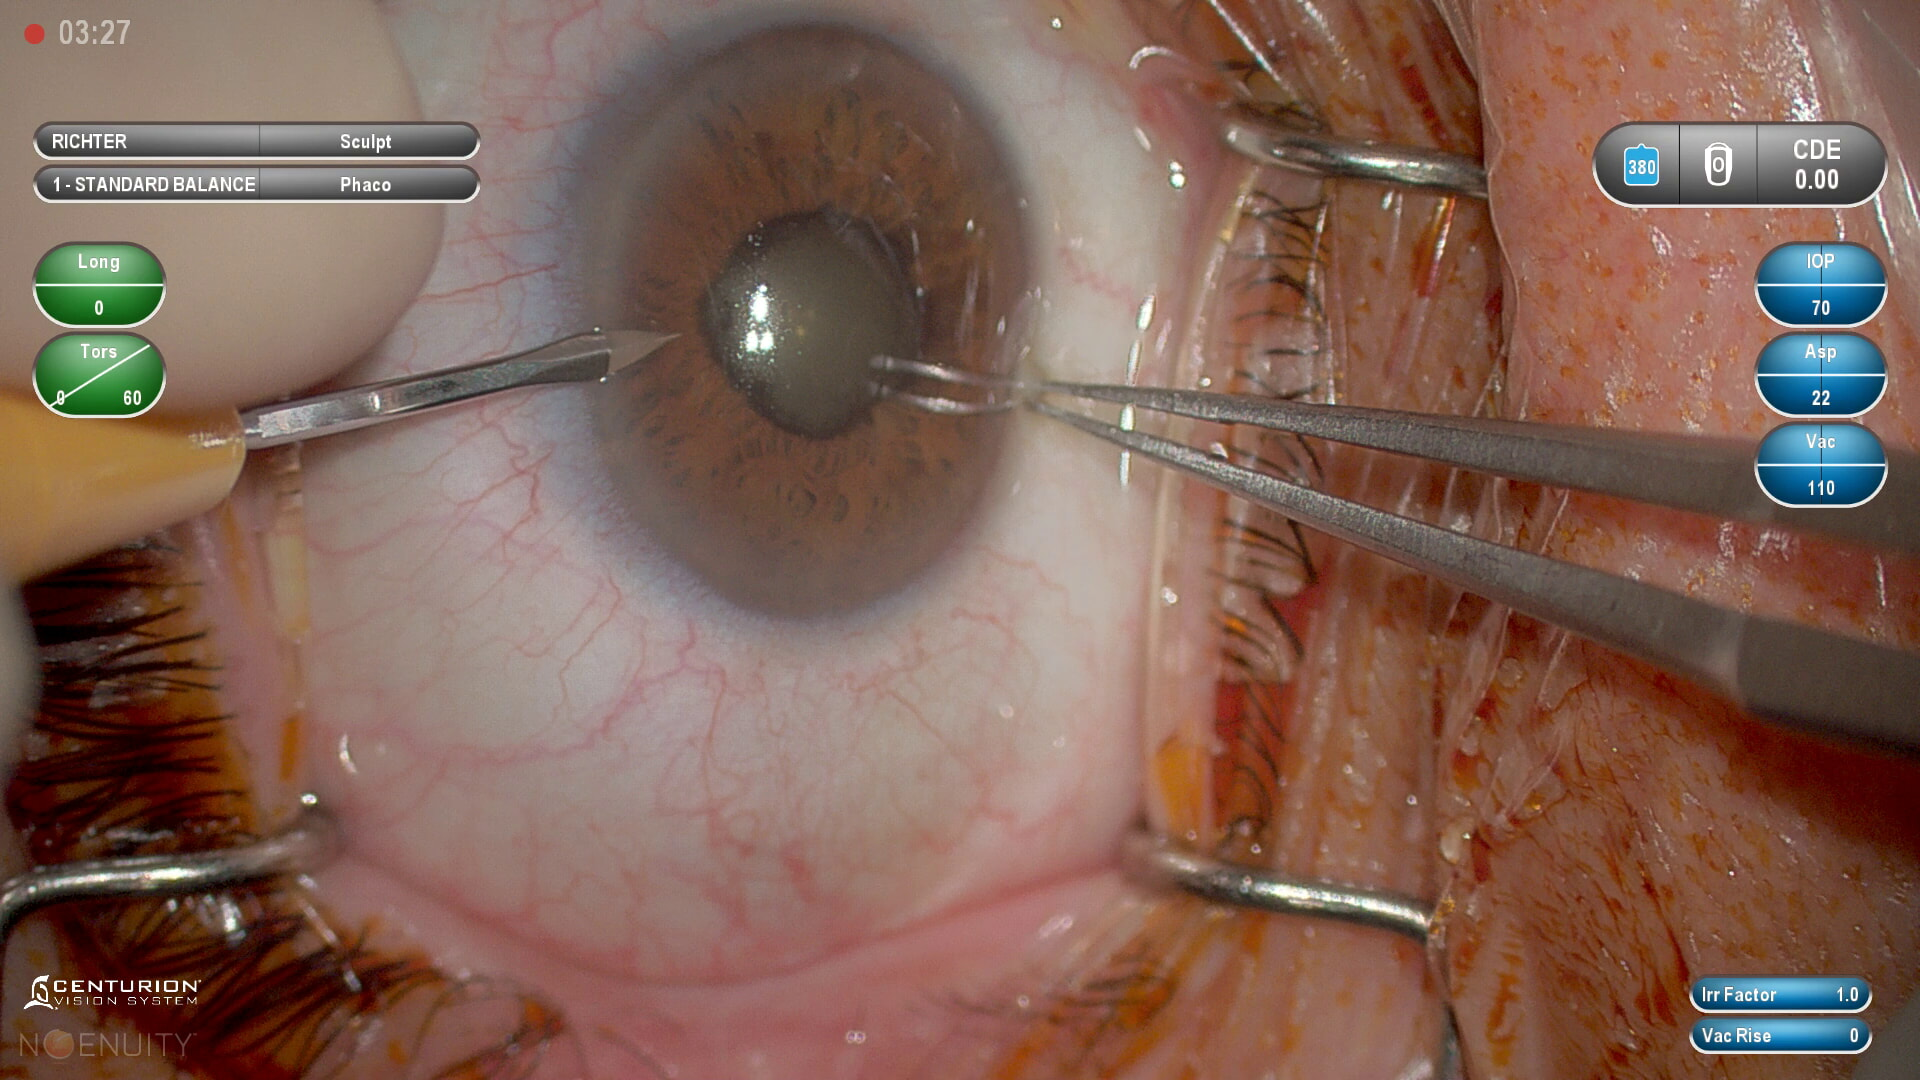iris: (596, 26, 1027, 616)
pupil: (698, 209, 905, 434)
